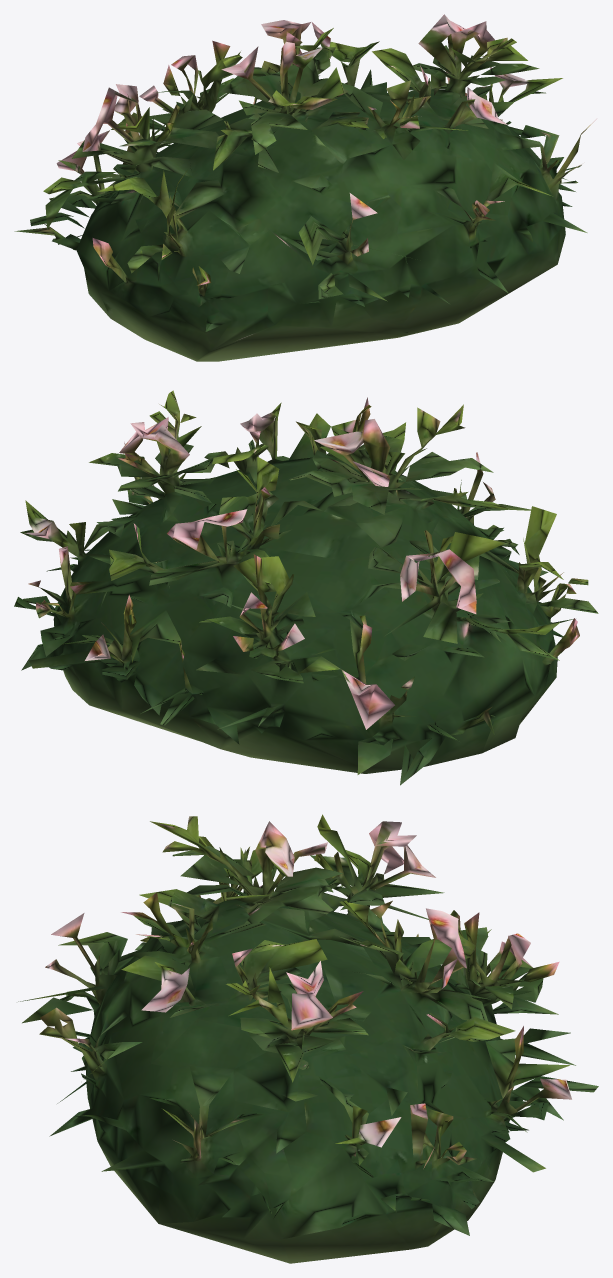
Rendered from env-flowerbush.glb.
The picture shows the model from 3 angles, top to bottom: view 1: azimuth 30°, elevation 25°; view 2: azimuth 150°, elevation 25°; view 3: azimuth 270°, elevation 25°; orthographic projection. The views are drawn at different scales.
Visible parts, largest first — view 1: tripo_node_be12ba54-1edf-4c66-94c8-edcaf8d7a239; view 2: tripo_node_be12ba54-1edf-4c66-94c8-edcaf8d7a239; view 3: tripo_node_be12ba54-1edf-4c66-94c8-edcaf8d7a239.
Part boxes in pixels (x1,y1,x2,y2): tripo_node_be12ba54-1edf-4c66-94c8-edcaf8d7a239: (14,14,596,361); tripo_node_be12ba54-1edf-4c66-94c8-edcaf8d7a239: (14,390,598,785); tripo_node_be12ba54-1edf-4c66-94c8-edcaf8d7a239: (18,814,598,1263).
Bounding box in the file's own units: 0.9482 × 0.5016 × 0.8132.
Materials: 1 (1 with a texture image).
